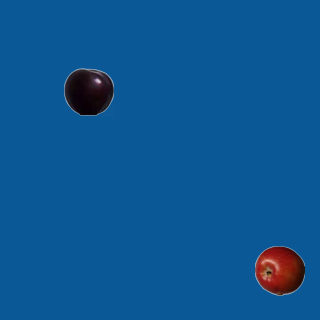Apple Braeburn: (254, 245, 304, 295)
Cherry Wax Black: (63, 66, 113, 116)
